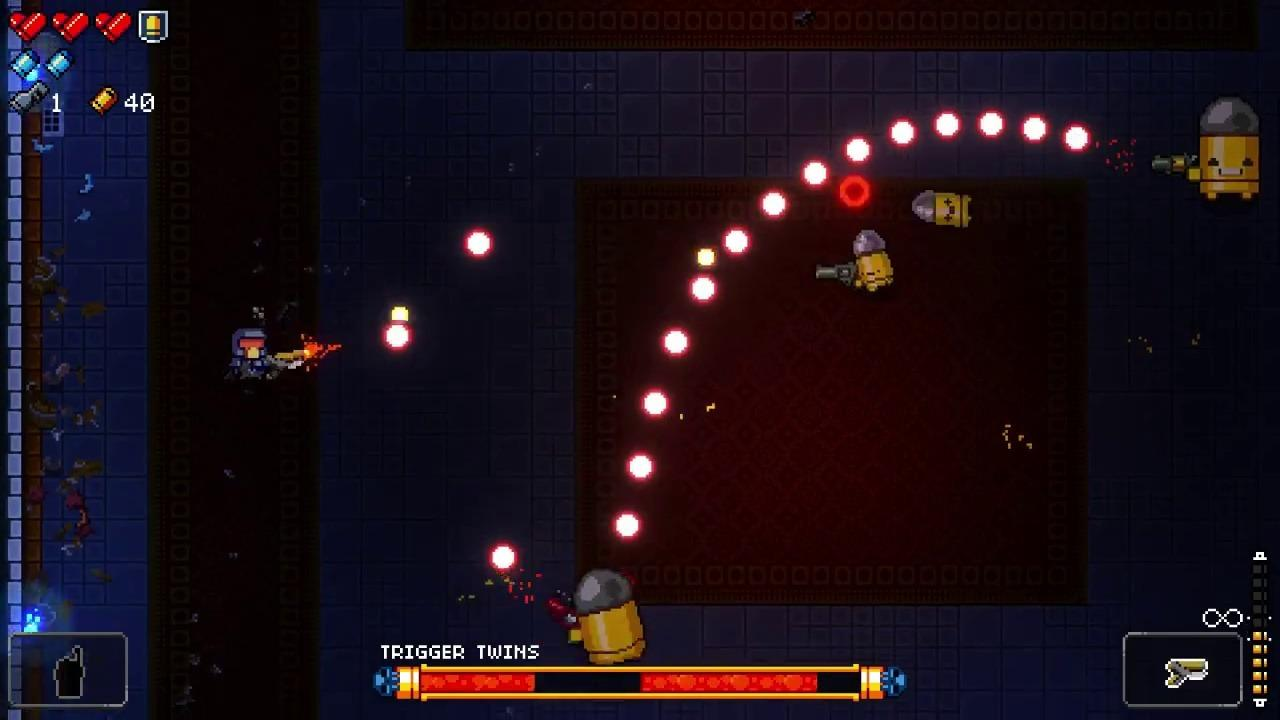boss_shades: (574, 570, 649, 664)
boss_smiley: (1199, 100, 1261, 202)
bullet: (637, 388, 671, 420), (720, 226, 752, 260), (888, 116, 916, 153), (659, 326, 690, 359), (976, 109, 1006, 143), (1062, 122, 1093, 154), (623, 452, 656, 482), (689, 274, 719, 307), (756, 188, 789, 218), (463, 230, 495, 260), (1019, 112, 1048, 145), (801, 157, 829, 191), (383, 322, 414, 352), (488, 544, 518, 573), (615, 511, 643, 542), (931, 110, 959, 141), (845, 138, 873, 168)
bullet_kin: (852, 230, 895, 294)
dead_bullet_kin: (913, 191, 973, 230)
player: (232, 329, 271, 383)
